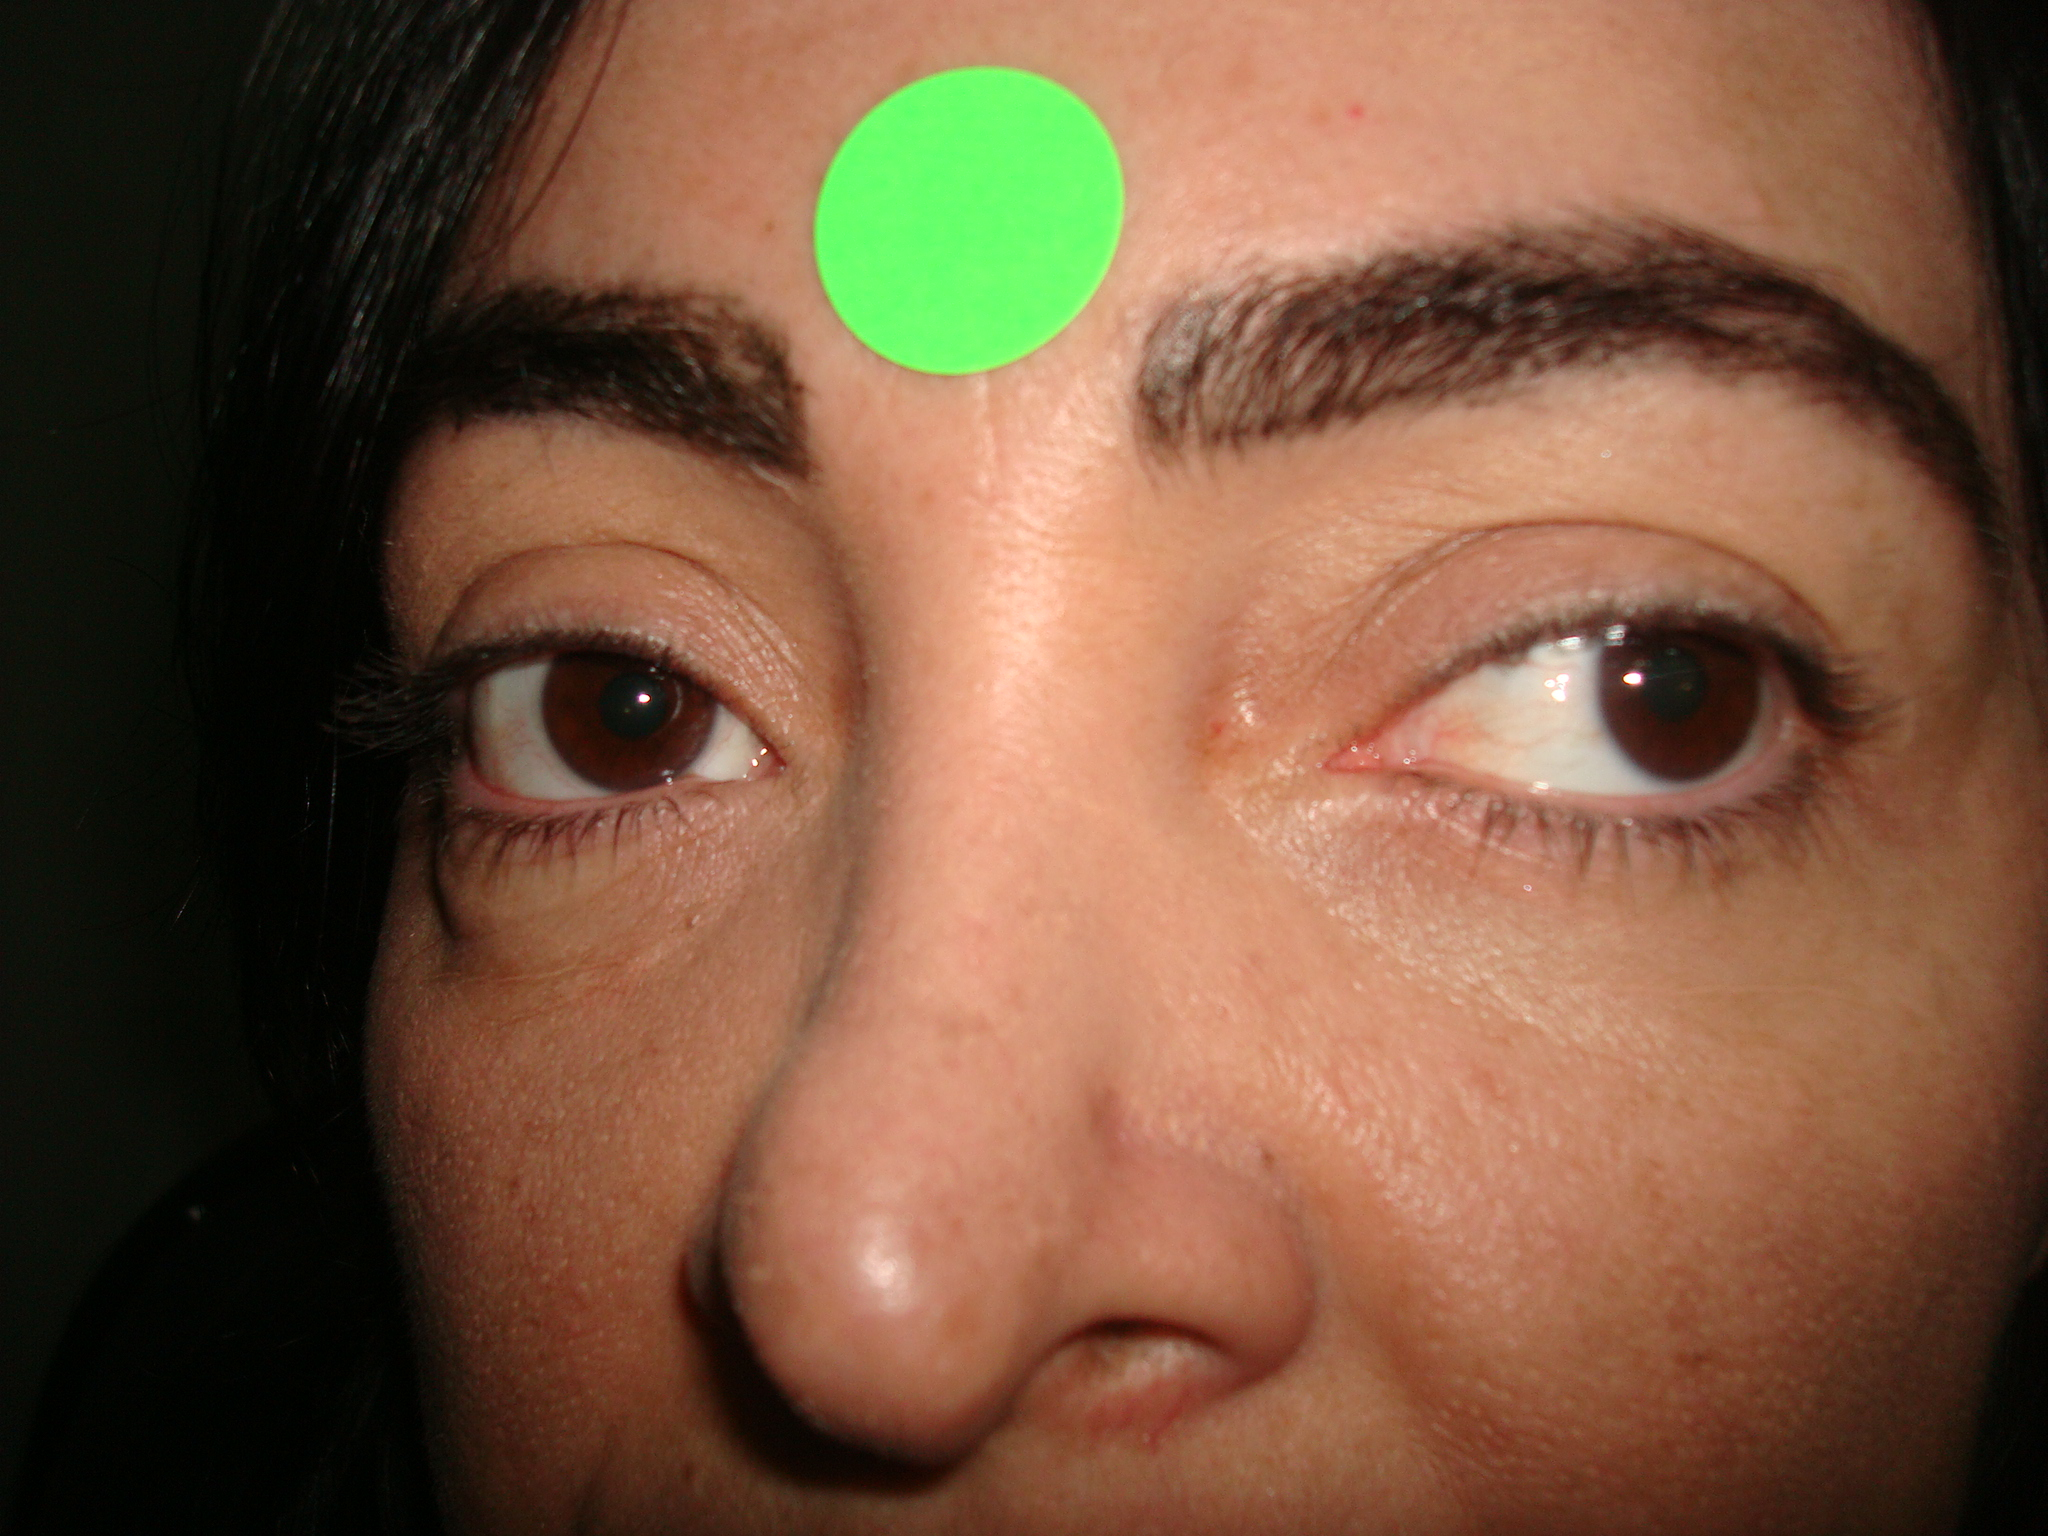flash: (634, 687, 655, 710), (1621, 670, 1642, 689)
limbo: (542, 620, 721, 795), (1596, 594, 1755, 779)
